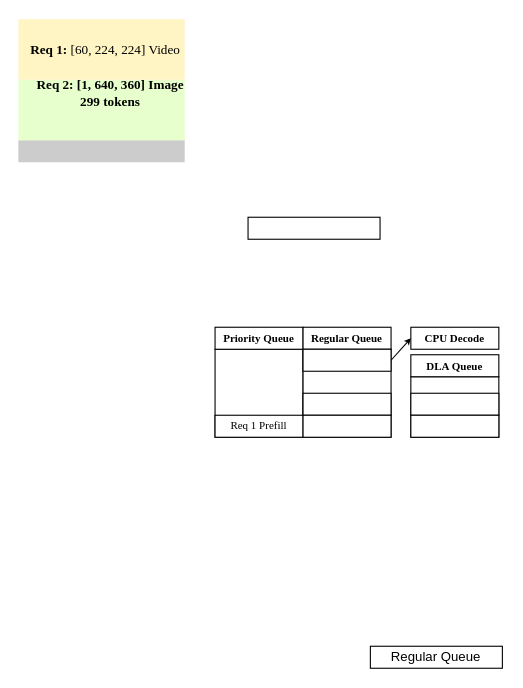
Some shapes in this 523 by 688 pixel diagram are drawn without their labels. The centre of each missing label's shape, as x and y in pixels:
"Req 1, 2, 3 Decode" goes at (346,359).
"Req 3: Text 1024 tokens" goes at (101,151).
